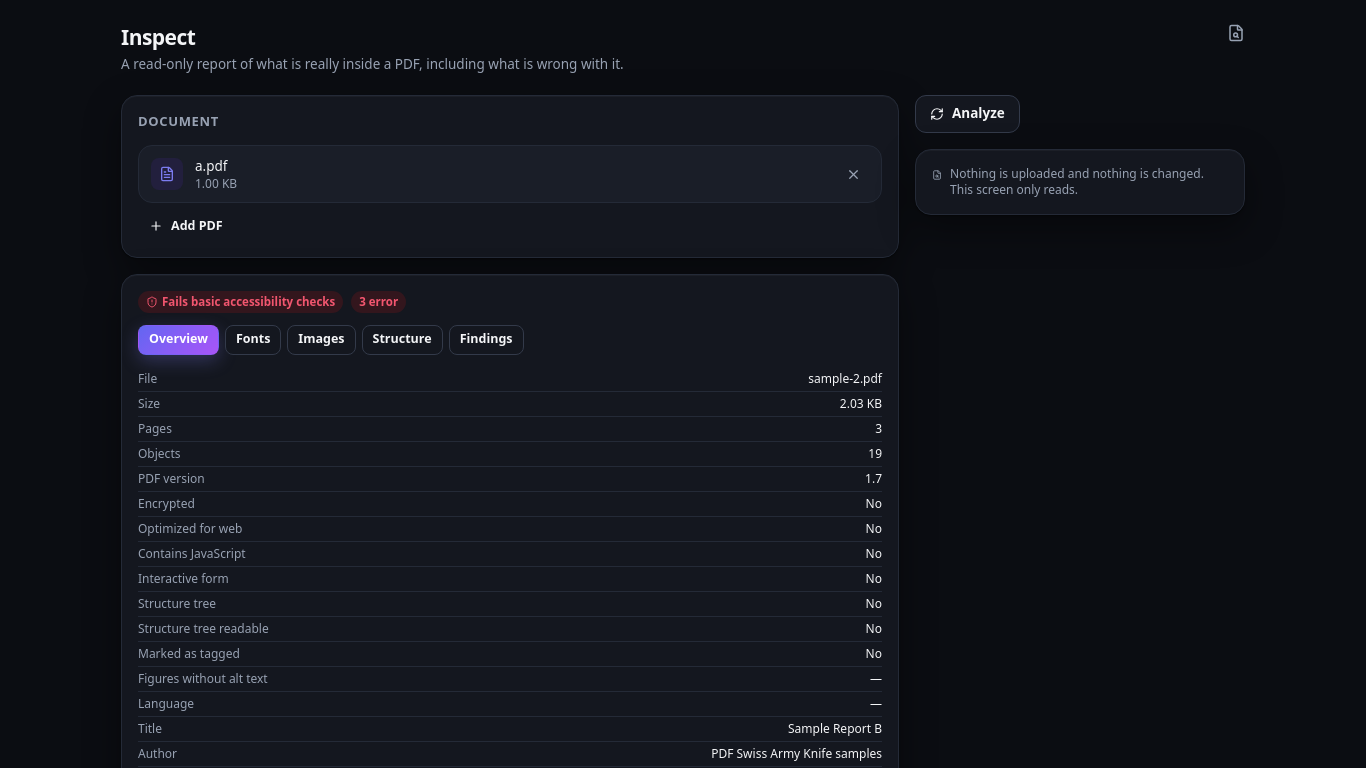
Scenario: the new PDF screens render against the real wire format › renders the inspector and reports the document it received
Expected: the text "Fails basic accessibility checks" is shown, x1=146 y1=293 x2=335 y2=311
Click the button "Fonts" at (253, 340), box x1=225 y1=324 x2=281 y2=354
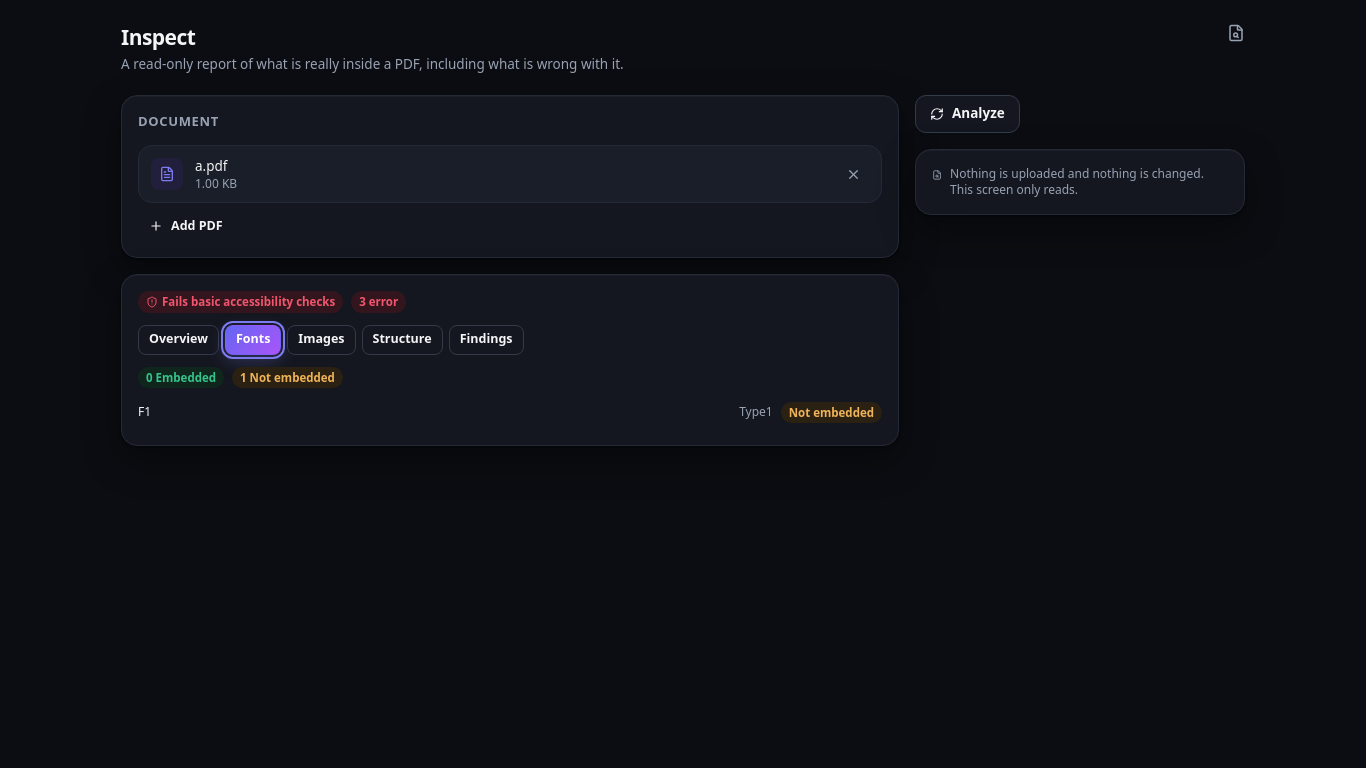
Expected: the text "F1" is shown, x1=138 y1=404 x2=151 y2=420
Expected: the text "Type1" is shown, x1=739 y1=404 x2=773 y2=420
Expected: the text "Not embedded" is shown, x1=781 y1=402 x2=882 y2=423
